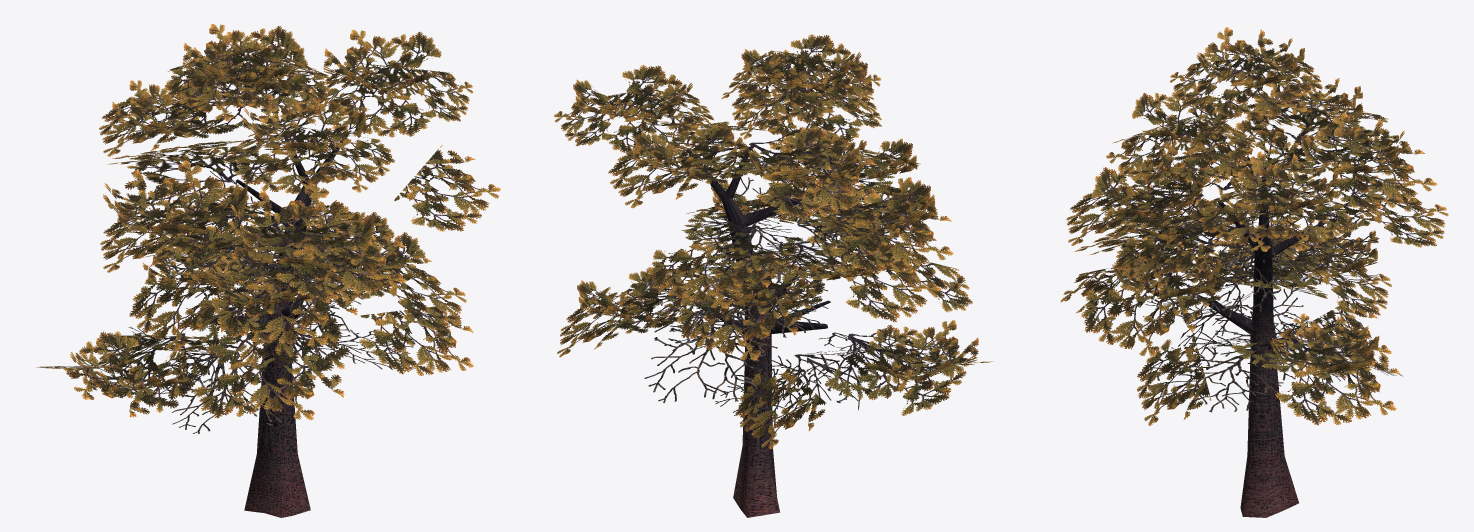
File: flora_tree_oak_hungarian_autumn_v2.glb
3 renders of one model, left to right at view 1: azimuth 30°, elevation 25°; view 2: azimuth 150°, elevation 25°; view 3: azimuth 270°, elevation 25°, orthographic. The views are drawn at different scales.
Visible parts, largest first — view 1: flora_tree_oak_hungarian_autumn_v2_part0, flora_tree_oak_hungarian_autumn_v2_part1; view 2: flora_tree_oak_hungarian_autumn_v2_part0, flora_tree_oak_hungarian_autumn_v2_part1; view 3: flora_tree_oak_hungarian_autumn_v2_part0, flora_tree_oak_hungarian_autumn_v2_part1.
Boxes of the visible parts, bbox=[...] form: flora_tree_oak_hungarian_autumn_v2_part0: bbox=[36, 24, 500, 517]; flora_tree_oak_hungarian_autumn_v2_part1: bbox=[128, 171, 415, 433]; flora_tree_oak_hungarian_autumn_v2_part0: bbox=[554, 34, 993, 517]; flora_tree_oak_hungarian_autumn_v2_part1: bbox=[644, 177, 951, 423]; flora_tree_oak_hungarian_autumn_v2_part0: bbox=[1060, 27, 1448, 517]; flora_tree_oak_hungarian_autumn_v2_part1: bbox=[1145, 189, 1402, 412].
Size of the model in its own units: 23.51 by 24.79 by 20.89.
2 materials, 2 textured.
